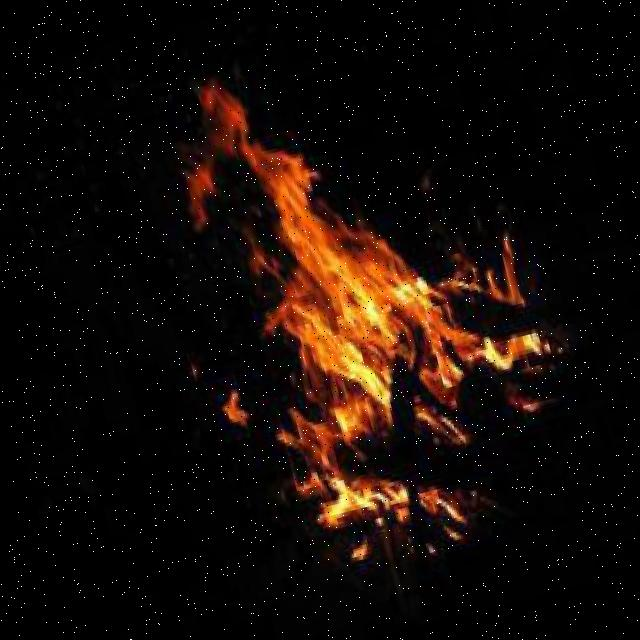fire: (105, 21, 588, 618)
